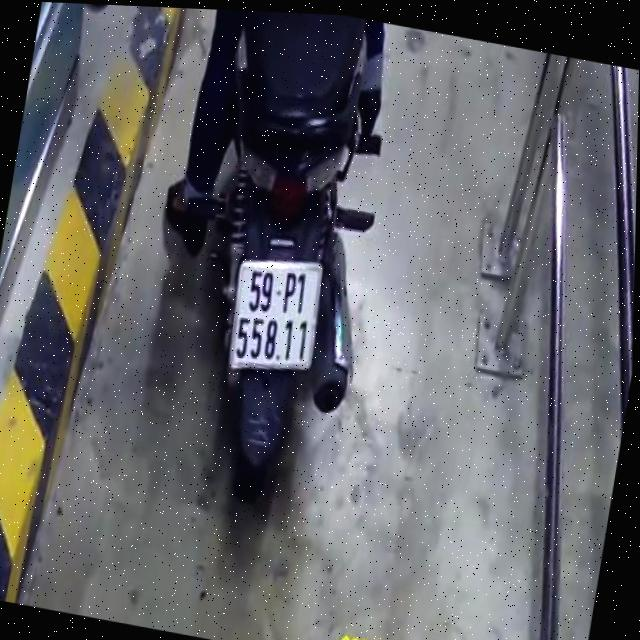motorcycle: (154, 7, 416, 539)
plate: (219, 248, 332, 384)
